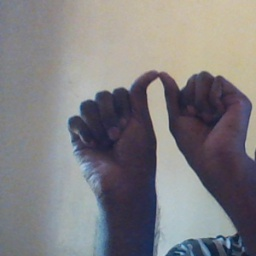A: (65, 68, 255, 177)
